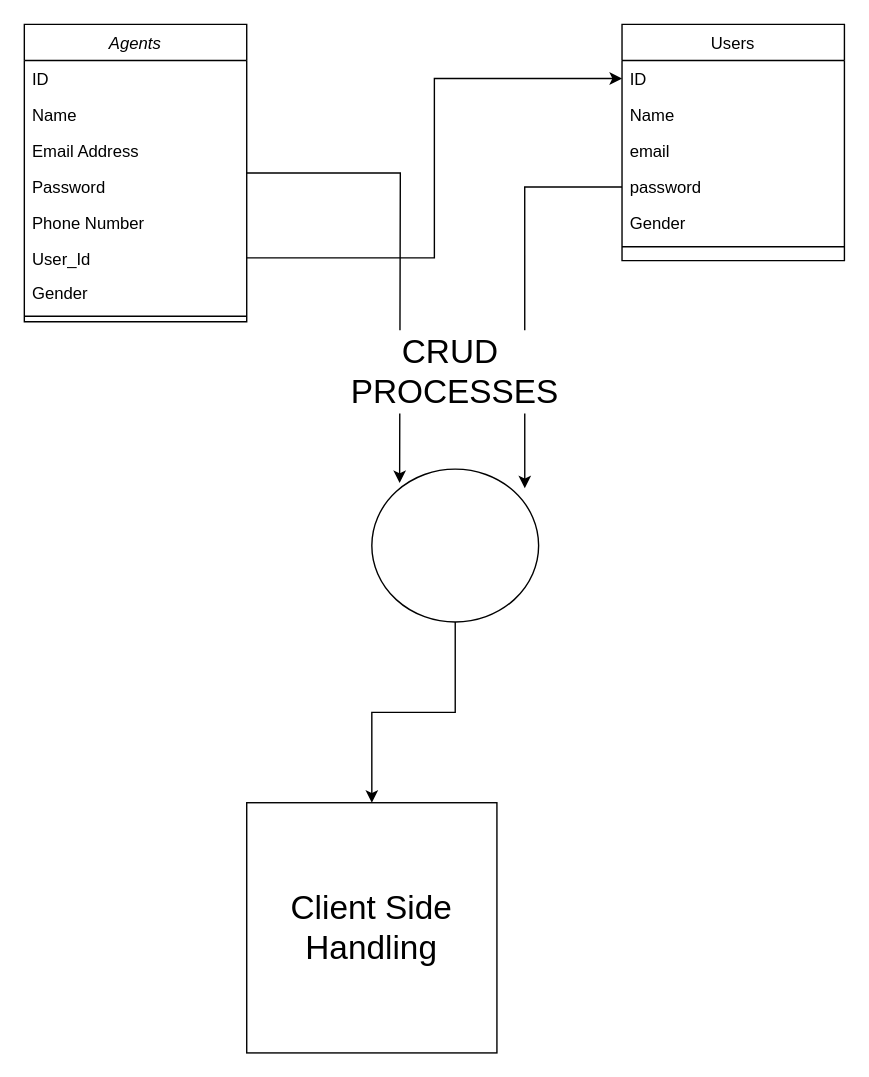
Some shapes in this 869 by 1077 pixel diagram are drawn without their labels. Here are the shapes that lost their labels. From the top down, the centre of each, then its label:
At pixel 482 51: "Foreign Key".
At pixel 454 545: "Application Programming interface".
